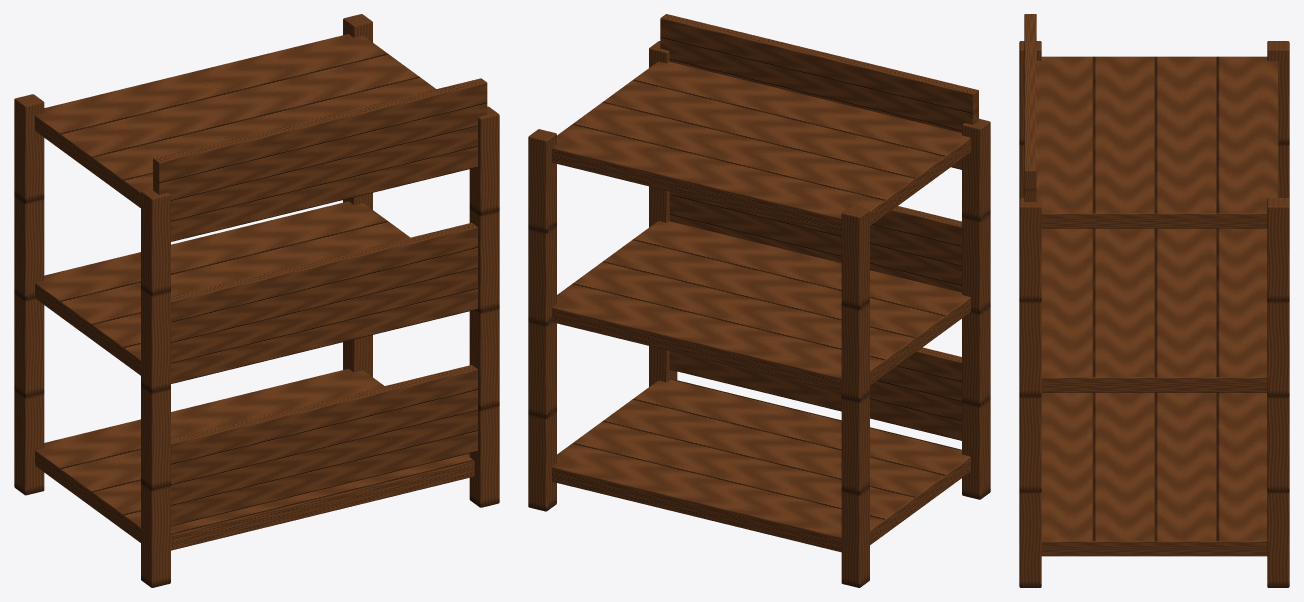
File: survival-food-and-preservation-root-storage-bin-8885df11__21823.glb
The picture shows the model from 3 angles, left to right: view 1: azimuth 30°, elevation 25°; view 2: azimuth 150°, elevation 25°; view 3: azimuth 270°, elevation 25°; orthographic projection. The views are drawn at different scales.
Visible parts, largest first — view 1: root-storage-bin_0; view 2: root-storage-bin_0; view 3: root-storage-bin_0.
Boxes of the visible parts, x1,y1,x2,y2 form: root-storage-bin_0: [14, 14, 499, 587]; root-storage-bin_0: [528, 14, 990, 587]; root-storage-bin_0: [1019, 14, 1289, 587].
Size of the model in its own units: 0.795 by 0.92 by 0.545.
1 material, 1 textured.
